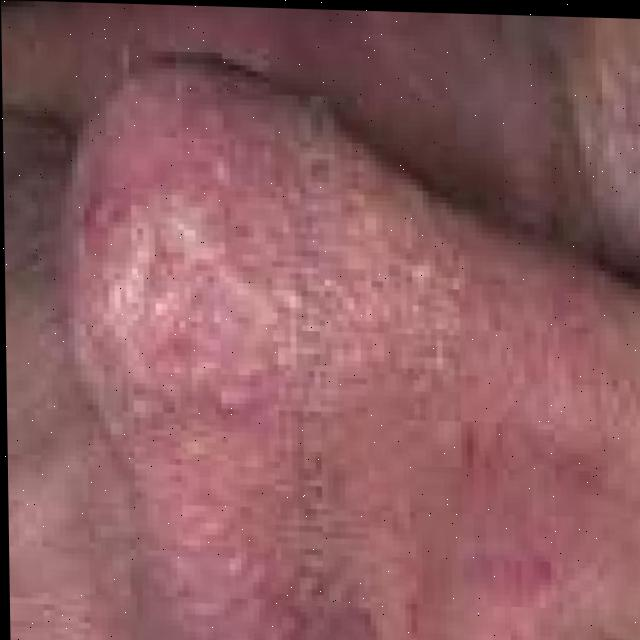Melasma: (91, 65, 580, 615)
